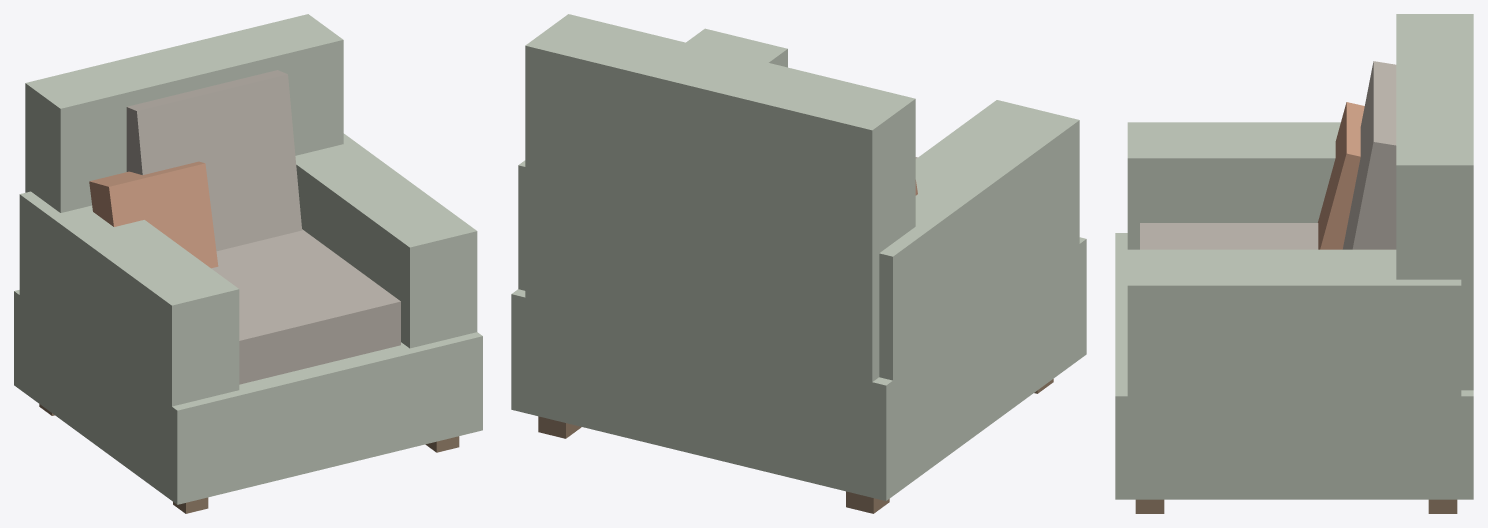
Rendered from armchair.gltf.
The picture shows the model from 3 angles, left to right: view 1: azimuth 30°, elevation 25°; view 2: azimuth 150°, elevation 25°; view 3: azimuth 270°, elevation 25°; orthographic projection. The views are drawn at different scales.
Parts seen in each view (by area): view 1: base, arm_l, back, arm_r, back_cushion, seat_cushion, pillow; view 2: back, base, arm_l, arm_r; view 3: arm_r, base, back, arm_l, back_cushion, seat_cushion, pillow, foot_0.36_0.04, foot_0.36_0.76.
Part boxes in pixels (x1,y1,x2,y2): base: [14, 290, 482, 504]; arm_l: [19, 191, 239, 406]; back: [25, 14, 343, 212]; arm_r: [295, 133, 477, 348]; back_cushion: [126, 70, 302, 251]; seat_cushion: [211, 229, 400, 384]; pillow: [89, 161, 218, 268]; back: [525, 14, 915, 397]; base: [511, 237, 1086, 500]; arm_l: [879, 100, 1079, 380]; arm_r: [518, 28, 787, 290]; arm_r: [1127, 249, 1461, 396]; base: [1115, 233, 1473, 499]; back: [1396, 14, 1473, 390]; arm_l: [1127, 122, 1340, 249]; back_cushion: [1342, 61, 1396, 249]; seat_cushion: [1140, 223, 1318, 249]; pillow: [1318, 102, 1364, 249]; foot_0.36_0.04: [1428, 499, 1457, 513]; foot_0.36_0.76: [1135, 499, 1164, 513].
Bounding box in the file's own units: 0.0594 × 0.0594 × 0.055.
